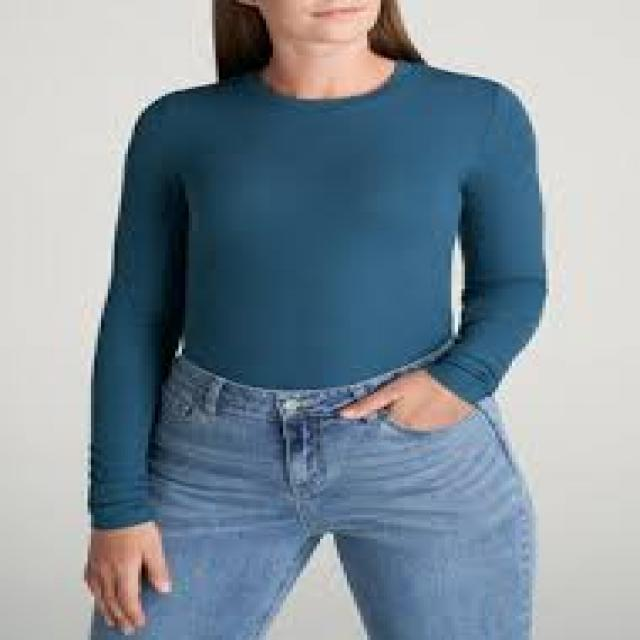plain: (114, 54, 555, 406)
